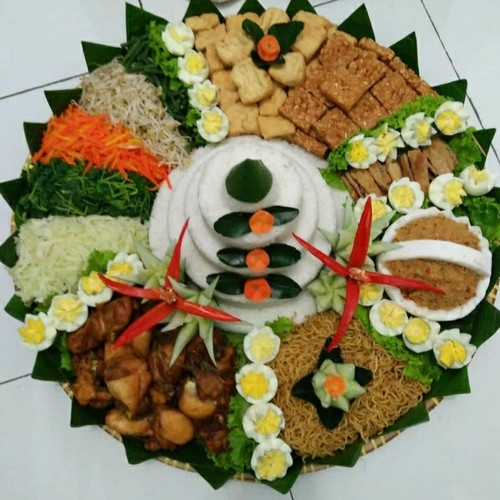nasi_tumpeng: (12, 7, 494, 479)
